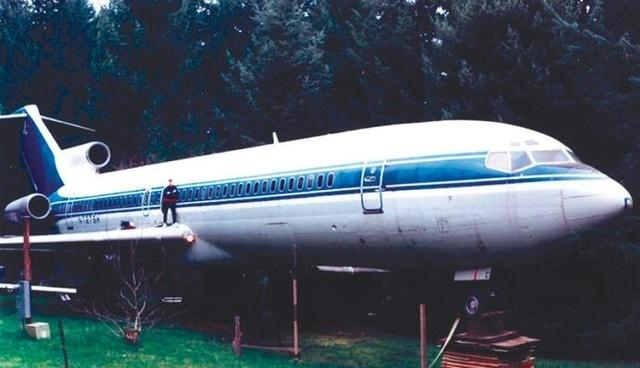airplane: (11, 91, 633, 275)
